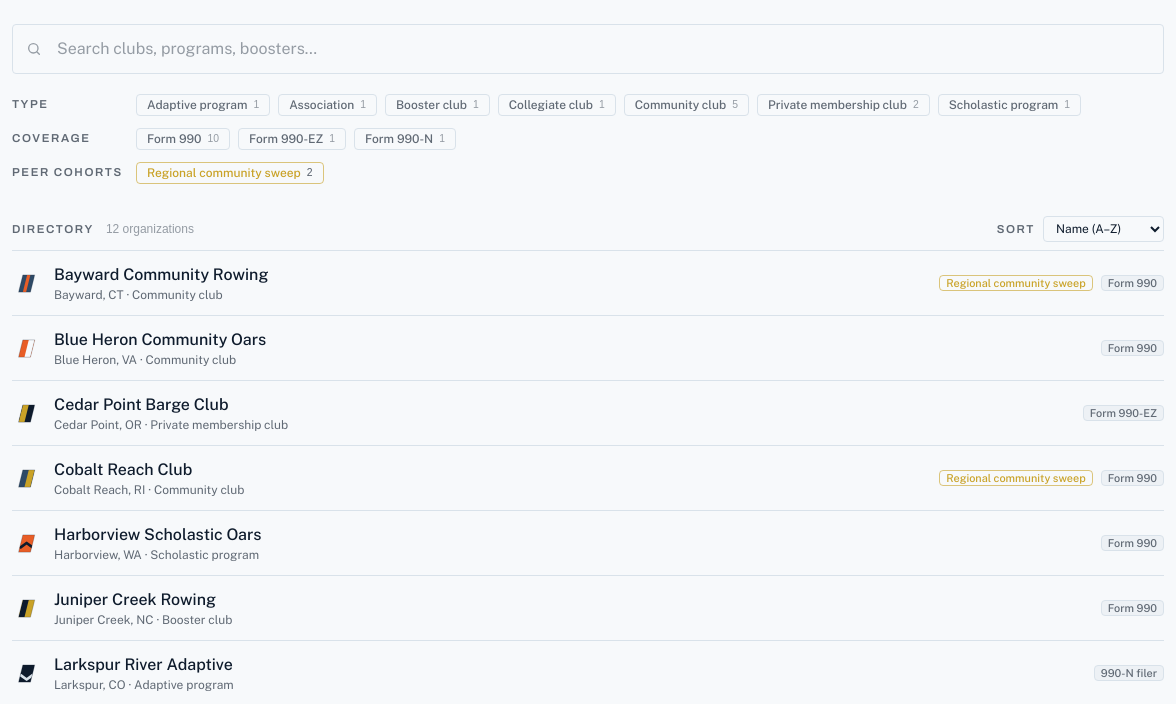
DirectoryExplorer › renders a no-results state with a working clear action
This screenshot has width=1176, height=704.
In the search field with placeholder "Search clubs, programs, boosters…": (588,49) 12,24 -> 1164,74, type "zzzzzzzz"
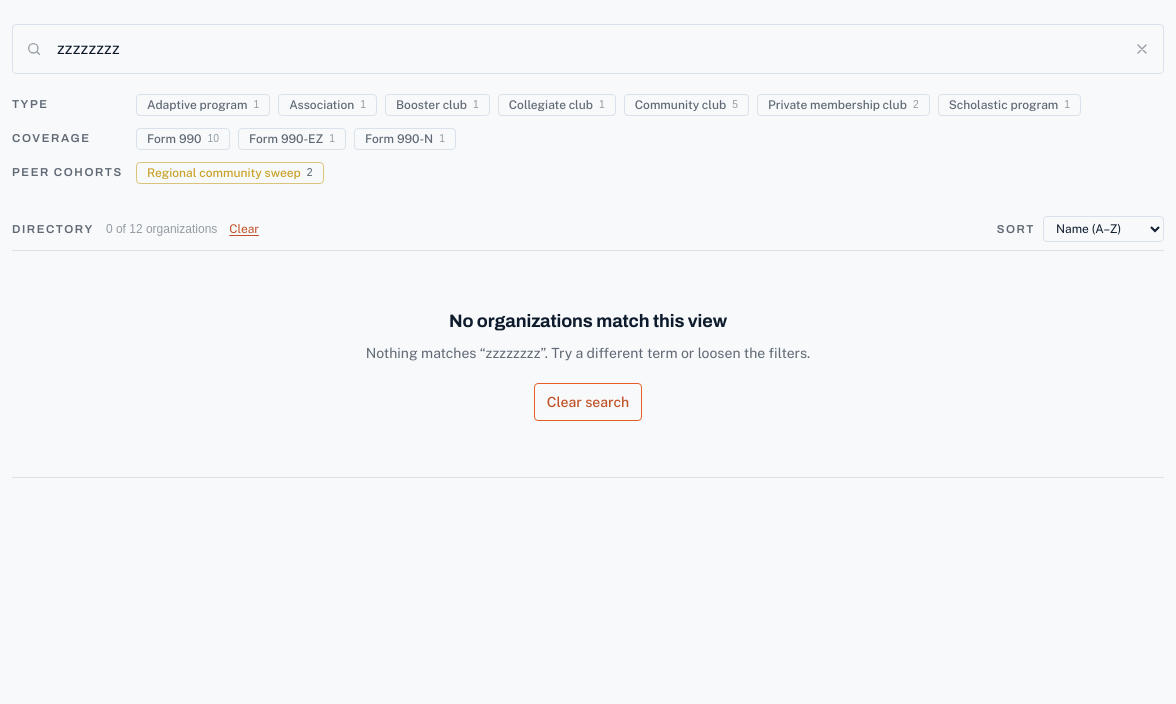
Expected: the text "No organizations match this view" is shown, 449,311 -> 727,331
Click the button "Clear search": (588,402) 534,383 -> 642,421
(page scrolled)
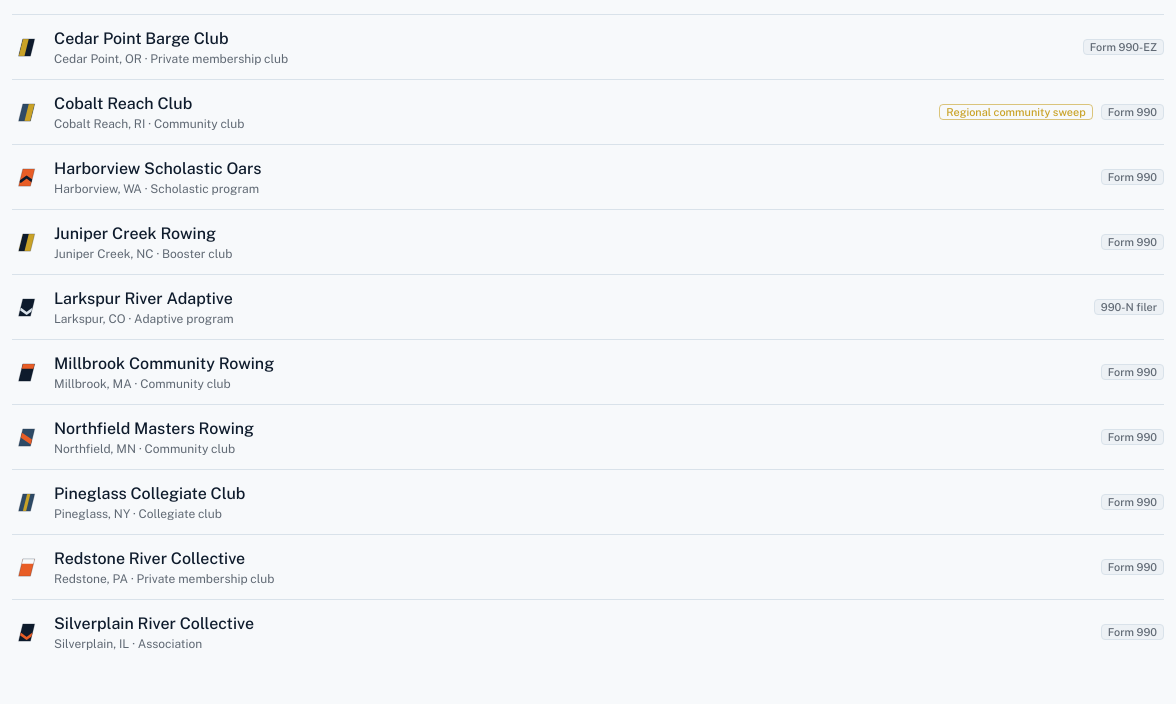
Expected: the text "Millbrook Community Rowing" is shown, 54,354 -> 274,373
